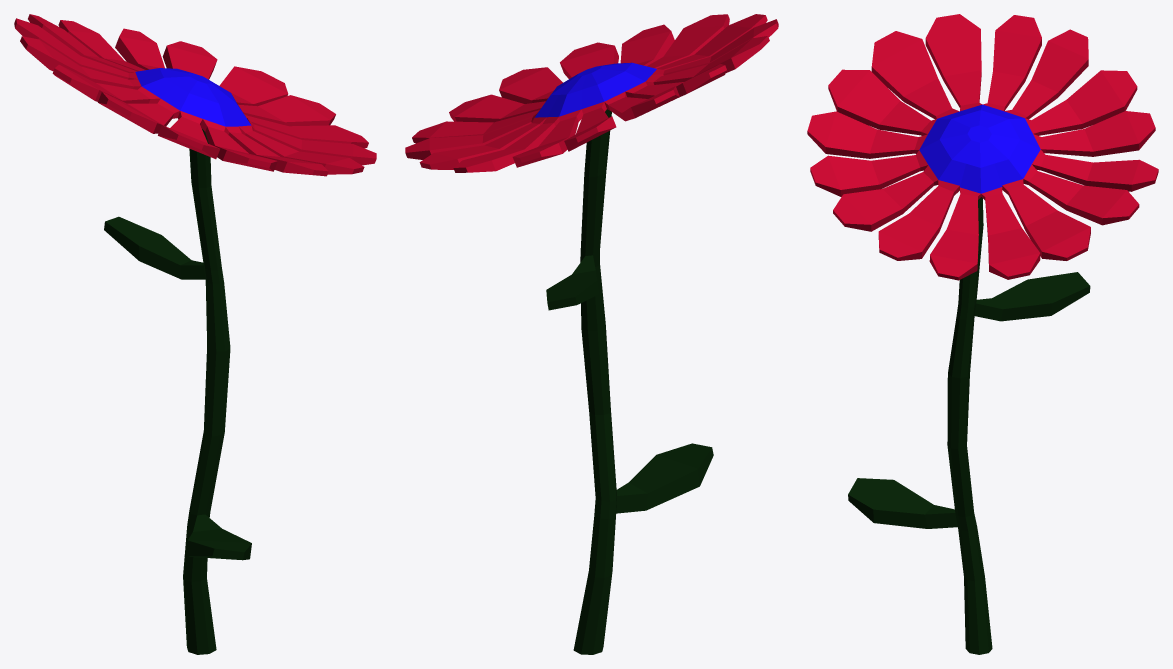
Rendered from flower_3.obj.
The picture shows the model from 3 angles, left to right: view 1: azimuth 30°, elevation 25°; view 2: azimuth 150°, elevation 25°; view 3: azimuth 270°, elevation 25°; orthographic projection. The views are drawn at different scales.
Visible parts, largest first — view 1: flower_3_petals, flower_3_stem; view 2: flower_3_petals, flower_3_stem; view 3: flower_3_petals, flower_3_stem.
Boxes of the visible parts, x1,y1,x2,y2 form: flower_3_petals: (14, 14, 376, 176); flower_3_stem: (104, 129, 251, 654); flower_3_petals: (405, 14, 778, 172); flower_3_stem: (546, 109, 713, 654); flower_3_petals: (807, 14, 1158, 280); flower_3_stem: (848, 197, 1090, 654).
Bounding box in the file's own units: 0.5351 × 1.03 × 0.5813.
